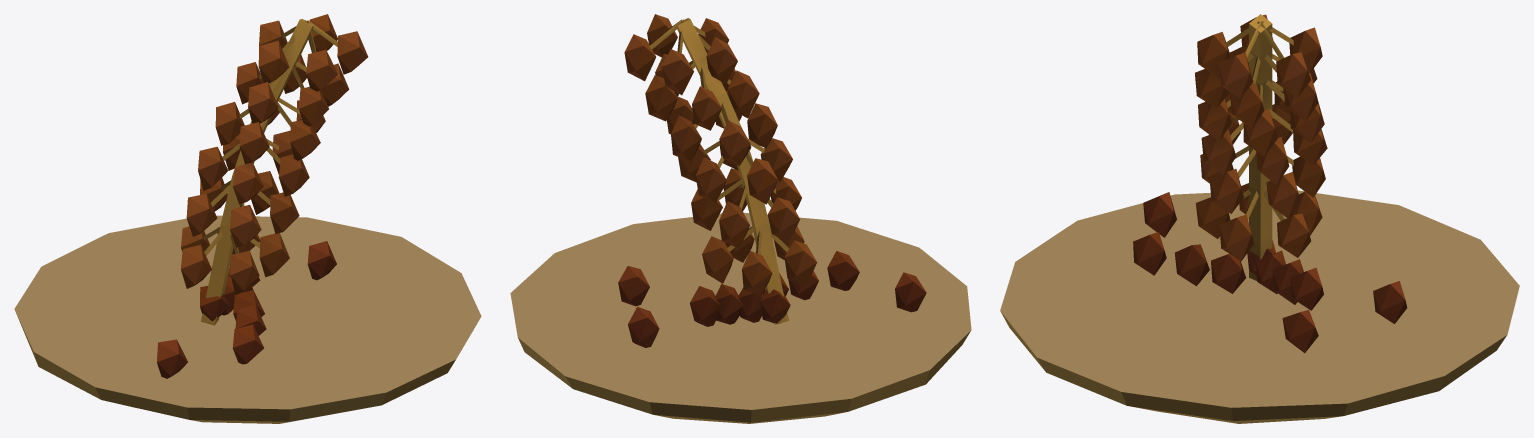
The picture shows the model from 3 angles, left to right: view 1: azimuth 30°, elevation 25°; view 2: azimuth 150°, elevation 25°; view 3: azimuth 270°, elevation 25°; orthographic projection. The views are drawn at different scales.
Parts seen in each view (by area): view 1: base; view 2: base; view 3: base.
Boxes of the visible parts, bbox=[...] form: base: bbox=[14, 14, 481, 423]; base: bbox=[510, 14, 971, 423]; base: bbox=[1000, 14, 1519, 423].
Size of the model in its own units: 0.5339 by 0.4059 by 0.5362.
